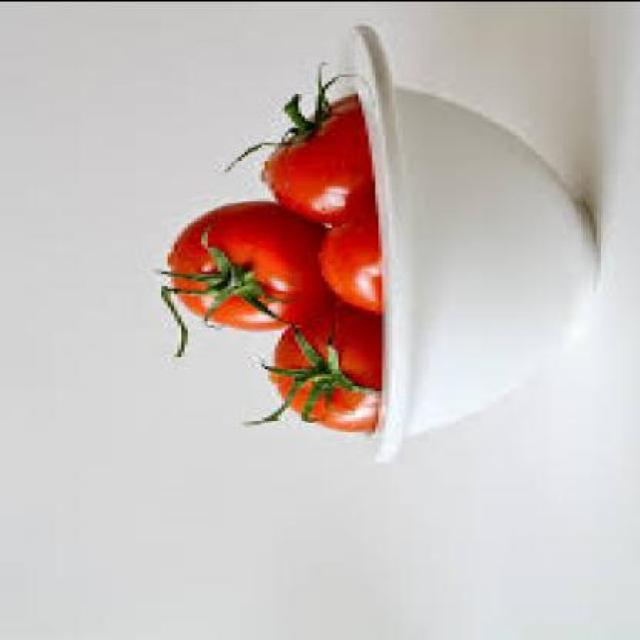BIODEGRADABLE: (154, 200, 332, 360), (221, 63, 368, 226), (238, 301, 379, 434), (311, 182, 375, 316)
